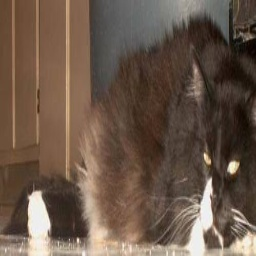cat: (67, 22, 256, 256)
